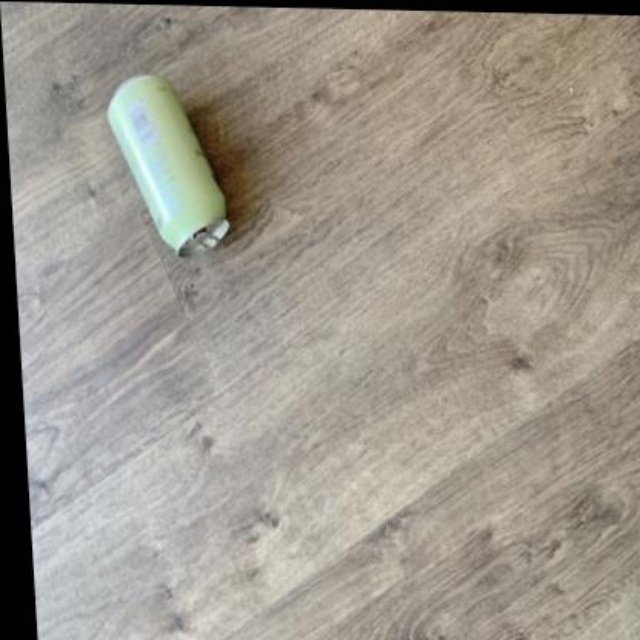trash: (108, 75, 228, 254)
